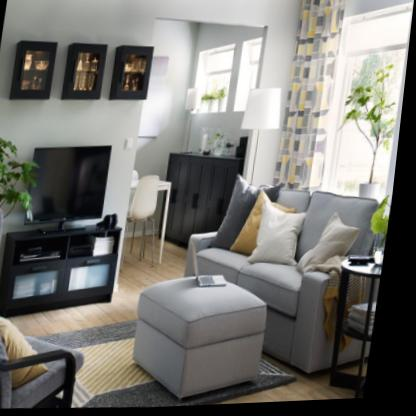Sofa: (176, 175, 394, 386)
